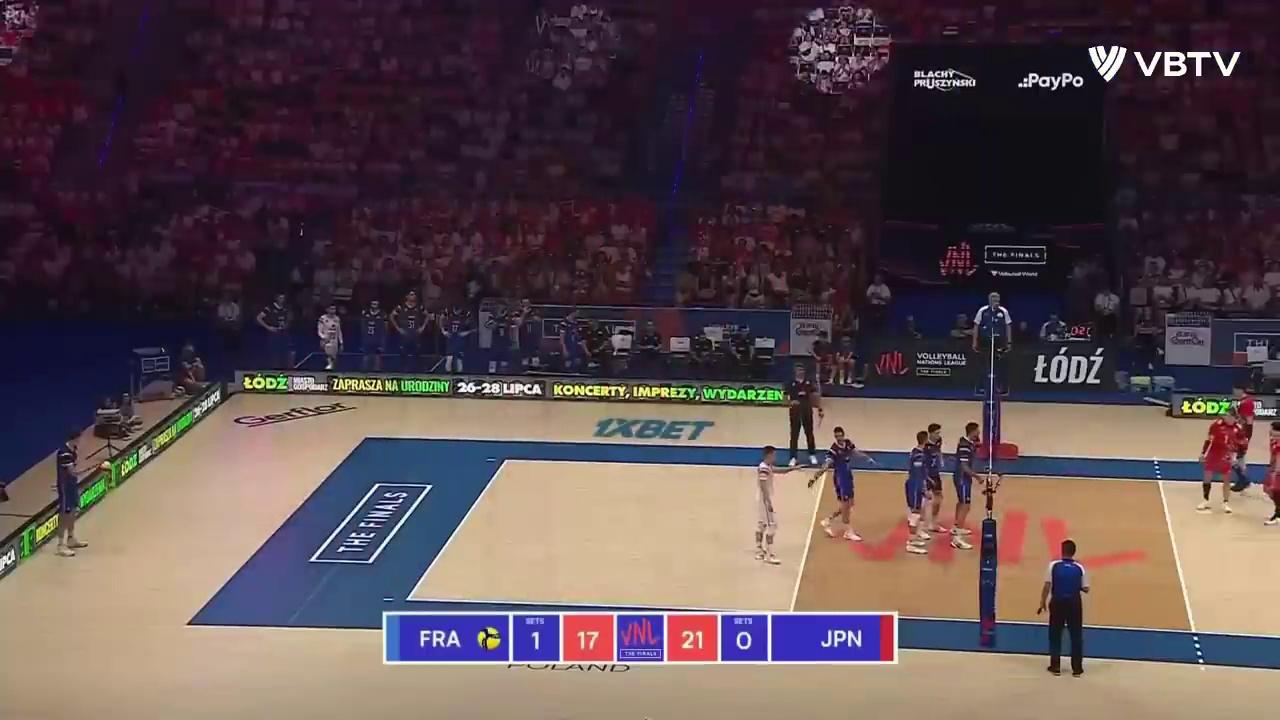ball: (97, 462, 112, 476)
